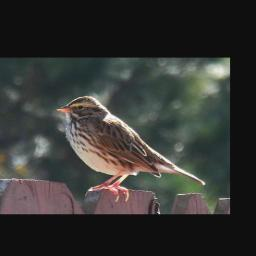Sparrow: (54, 94, 205, 200)
